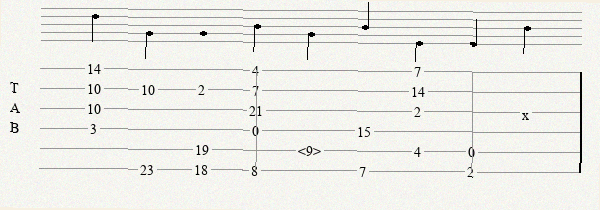0: (252, 123, 263, 137), (468, 143, 479, 157)
10: (87, 83, 105, 97), (87, 103, 105, 117), (141, 83, 159, 97)
14: (87, 63, 105, 77), (411, 83, 429, 97)
15: (357, 123, 375, 137)
18: (195, 163, 213, 177)
19: (195, 143, 213, 157)
2: (198, 83, 209, 97), (414, 103, 425, 117), (468, 163, 479, 177)
21: (249, 103, 267, 117)
23: (141, 163, 159, 177)
3: (90, 123, 101, 137)
4: (252, 63, 263, 77), (414, 143, 425, 157)
7: (252, 83, 263, 97), (360, 163, 371, 177), (414, 63, 425, 77)
8: (252, 163, 263, 177)
harmonic: (298, 143, 325, 157)
x: (522, 105, 533, 116)
